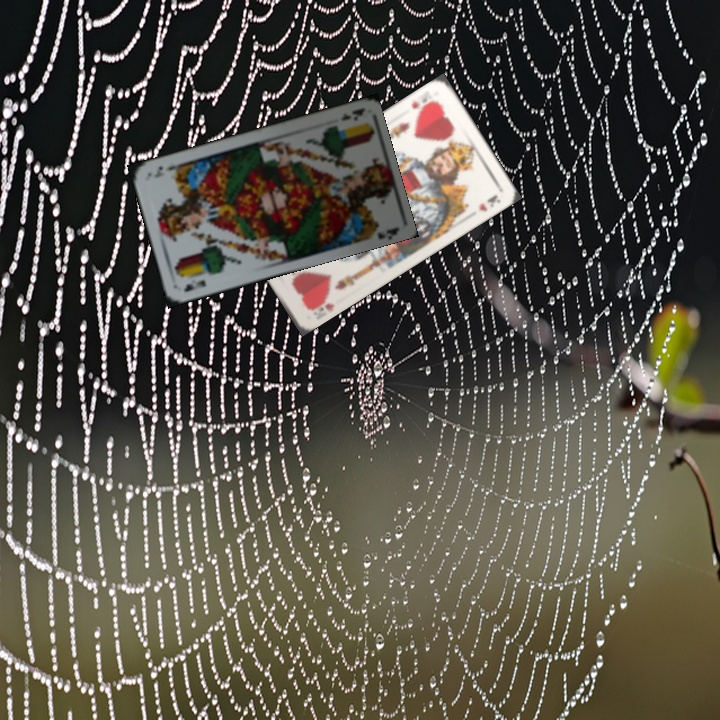EK: (336, 103, 366, 123), (180, 275, 208, 295)
HK: (407, 91, 440, 116), (304, 292, 337, 314)
